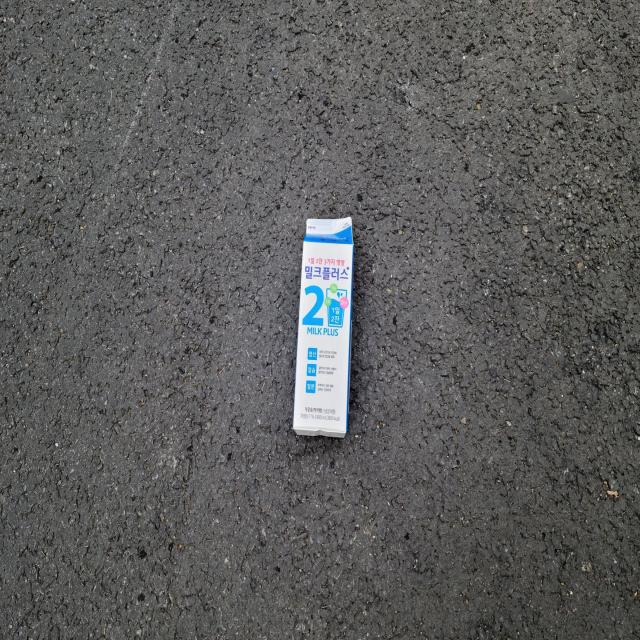paperpack: (293, 216, 354, 438)
